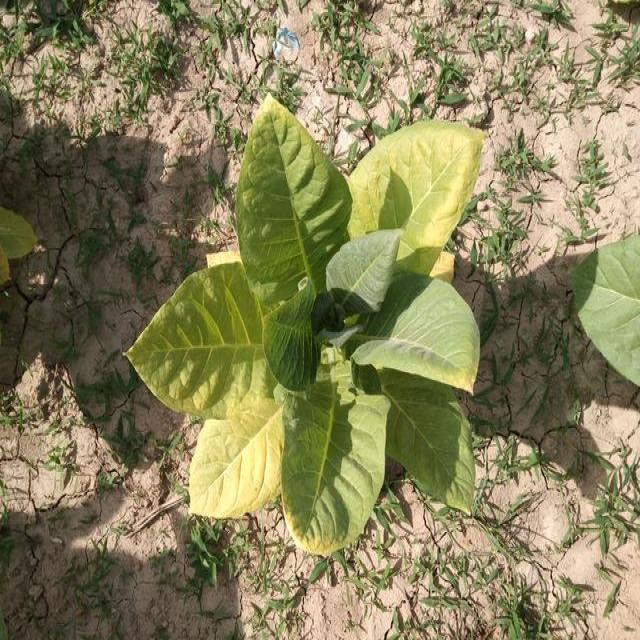crop: (135, 97, 507, 558)
